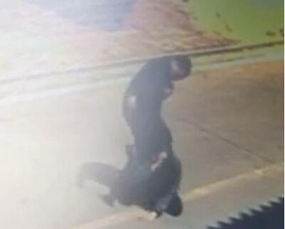falling: (95, 144, 189, 221)
